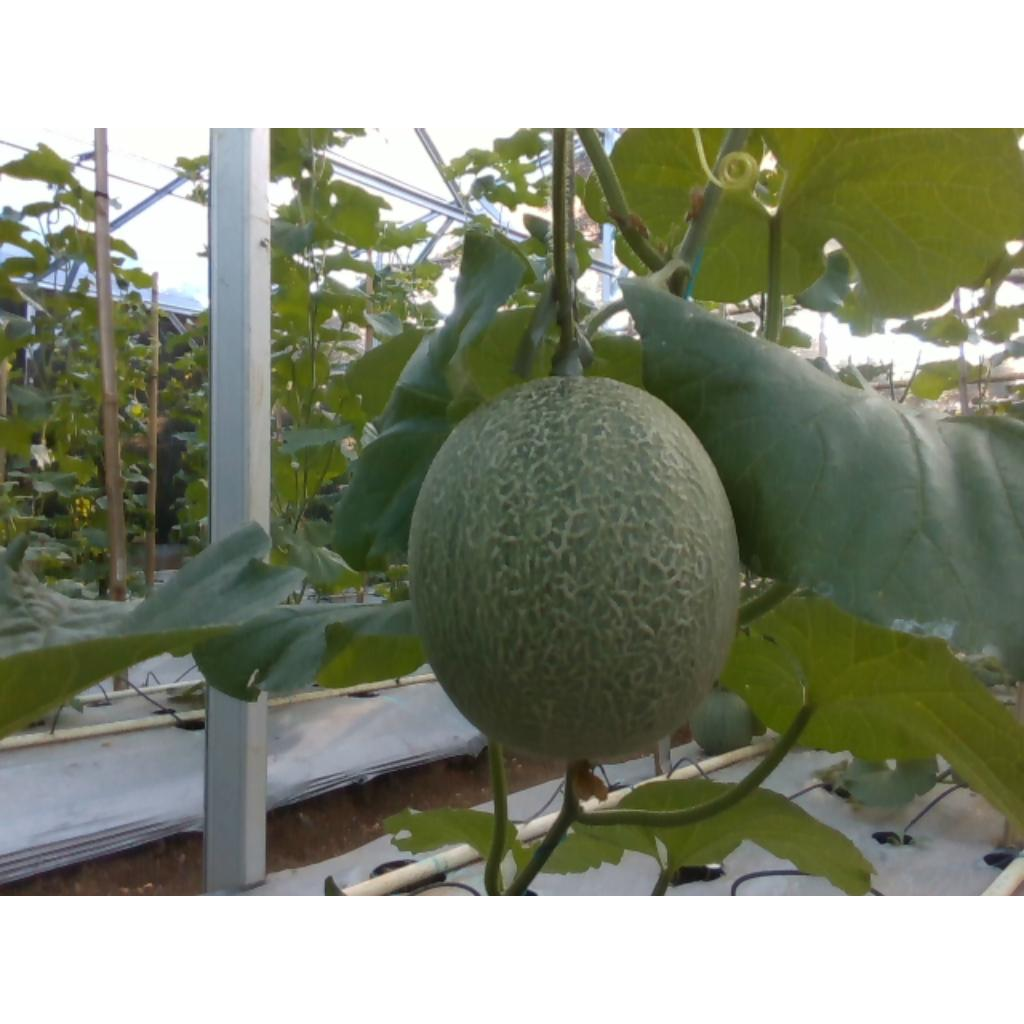melon: (413, 378, 739, 761)
